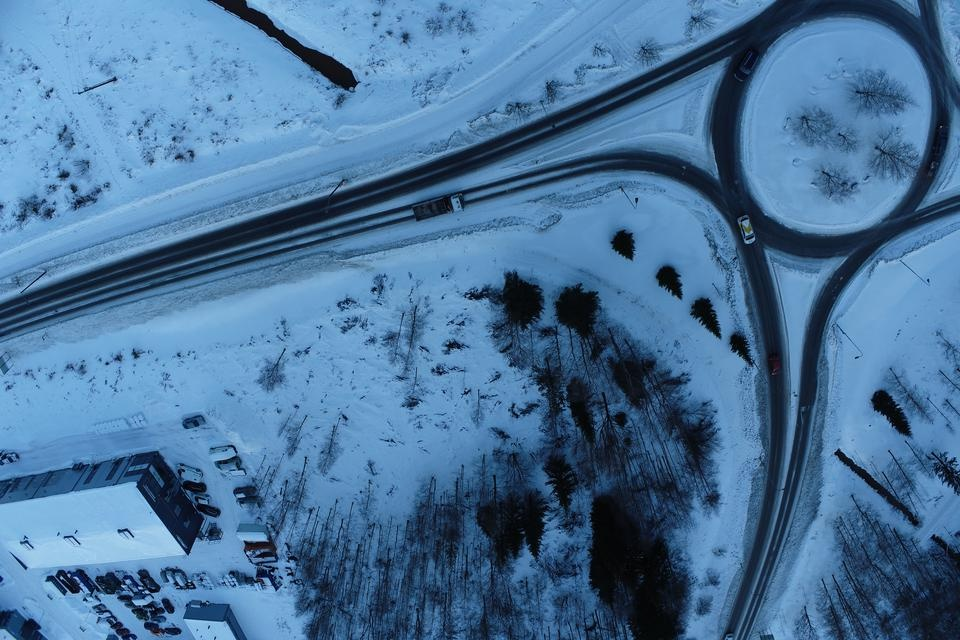roundabout: (653, 0, 960, 281)
